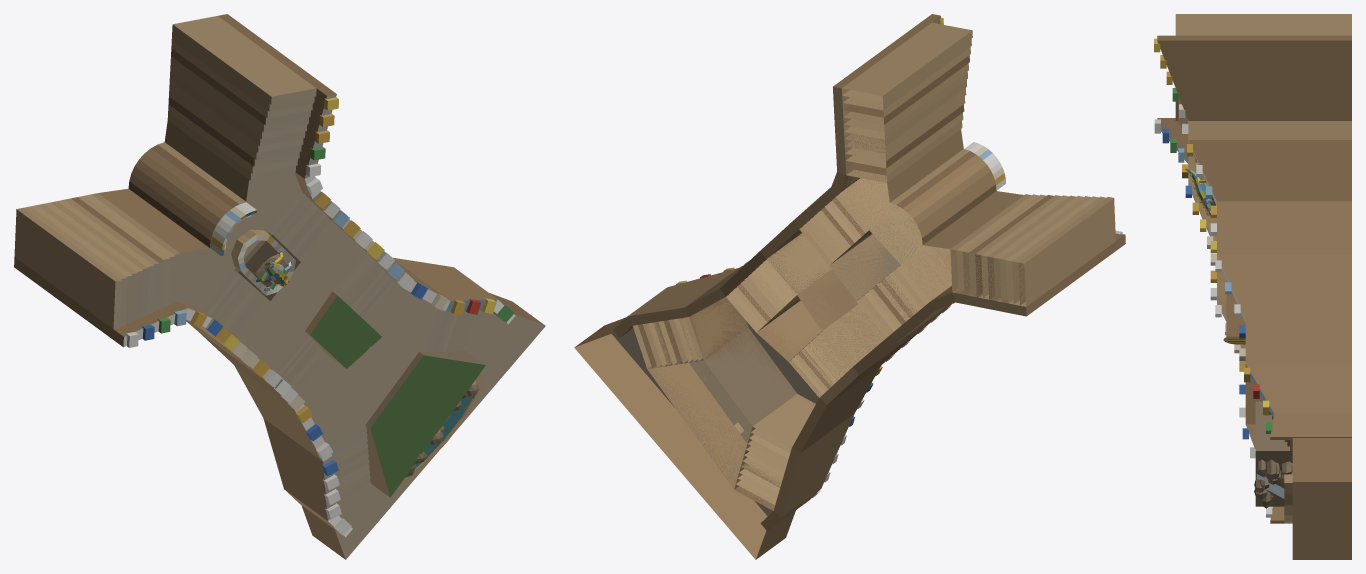
Rendered from escalinata-drac.glb.
3 renders of one model, left to right at view 1: azimuth 30°, elevation 25°; view 2: azimuth 150°, elevation 25°; view 3: azimuth 270°, elevation 25°, orthographic. The views are drawn at different scales.
Parts seen in each view (by area): view 1: escalinata-drac; view 2: escalinata-drac; view 3: escalinata-drac.
Part boxes in pixels (x1,y1,x2,y2): escalinata-drac: (14,14,545,559); escalinata-drac: (574,14,1125,559); escalinata-drac: (1154,14,1351,559).
Size of the model in its own units: 27.62 by 28.87 by 10.67.
